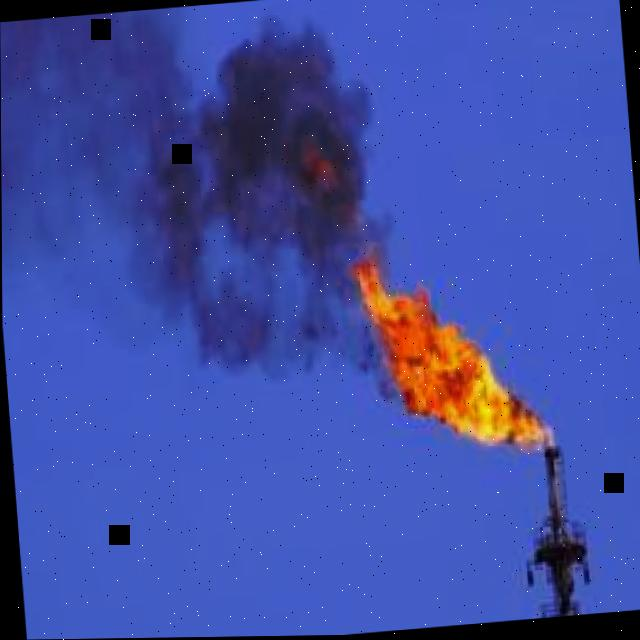fire: (347, 242, 543, 457)
smoke: (0, 8, 402, 402)
